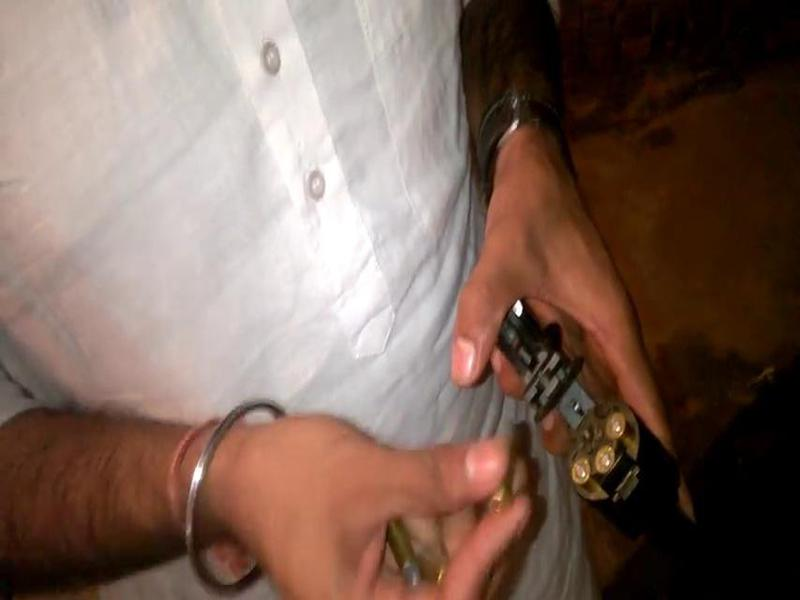Revolver: (477, 254, 739, 600)
